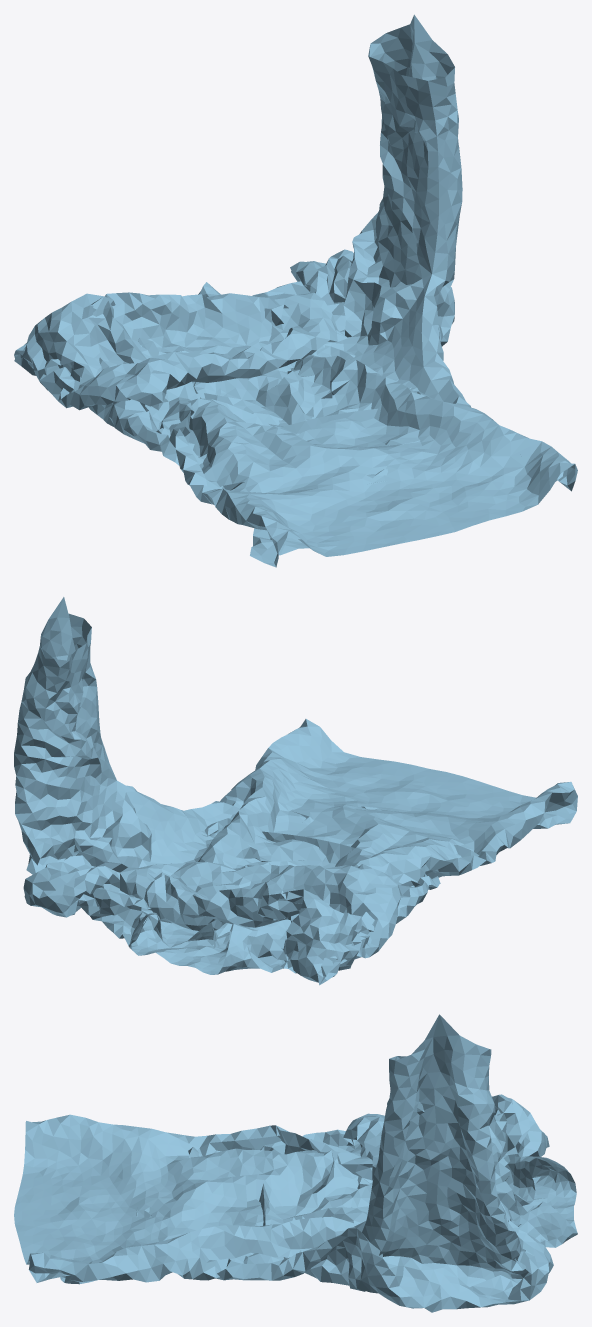
File: frame_08.glb
The picture shows the model from 3 angles, top to bottom: view 1: azimuth 30°, elevation 25°; view 2: azimuth 150°, elevation 25°; view 3: azimuth 270°, elevation 25°; orthographic projection. The views are drawn at different scales.
Visible parts, largest first — view 1: frame_08.obj; view 2: frame_08.obj; view 3: frame_08.obj.
Part boxes in pixels (x1,y1,x2,y2): frame_08.obj: (14,14,577,567); frame_08.obj: (14,597,577,985); frame_08.obj: (14,1014,577,1312).
Size of the model in its own units: 1.09 by 0.8425 by 1.43.
